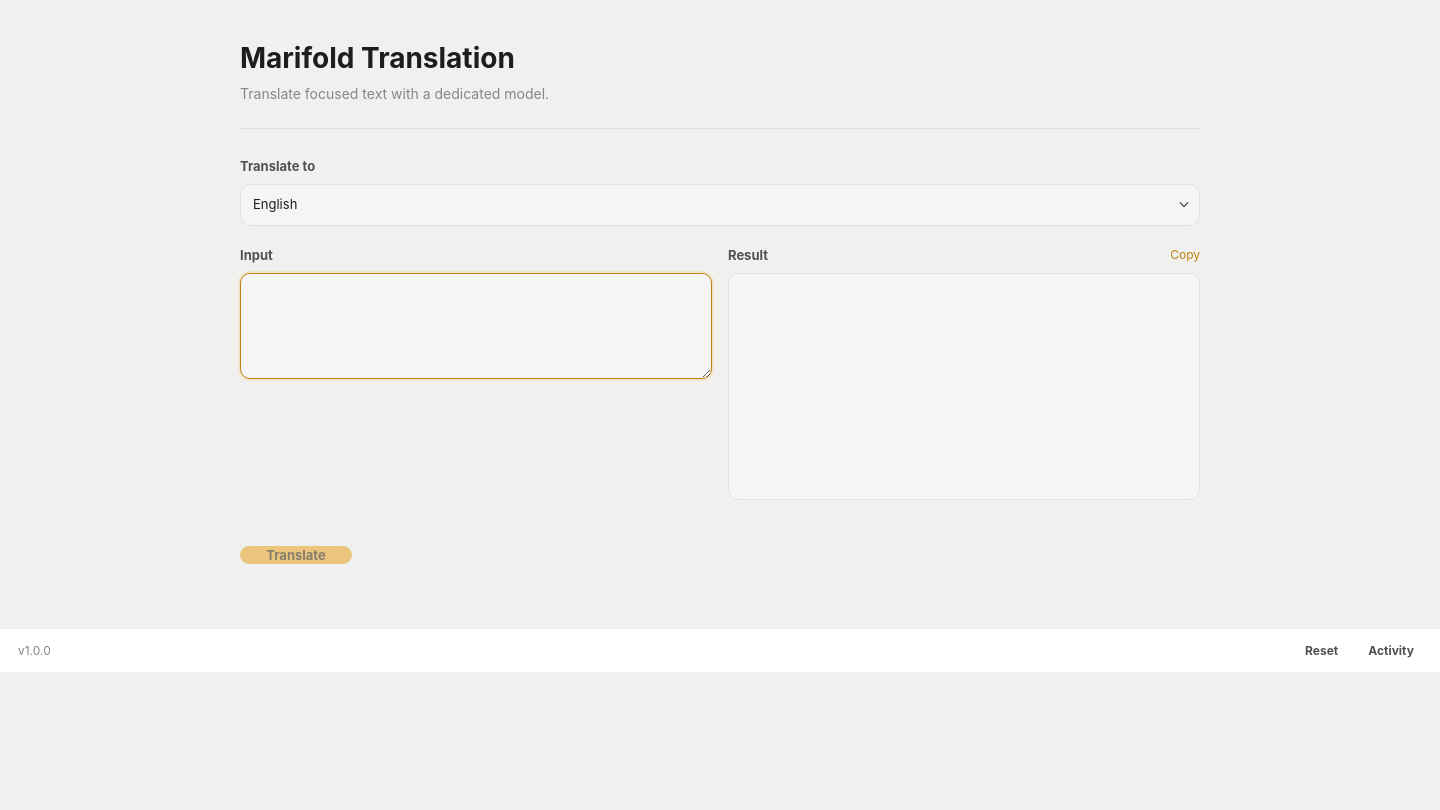
Test: AppsScreen › keeps fields and actions steady while an ordinary state update is pending
Expected: the button "Reset" is enabled, x1=1297 y1=638 x2=1346 y2=664
Type "a" into the text box labelled "Input" at (476, 326), box x1=240 y1=273 x2=712 y2=379
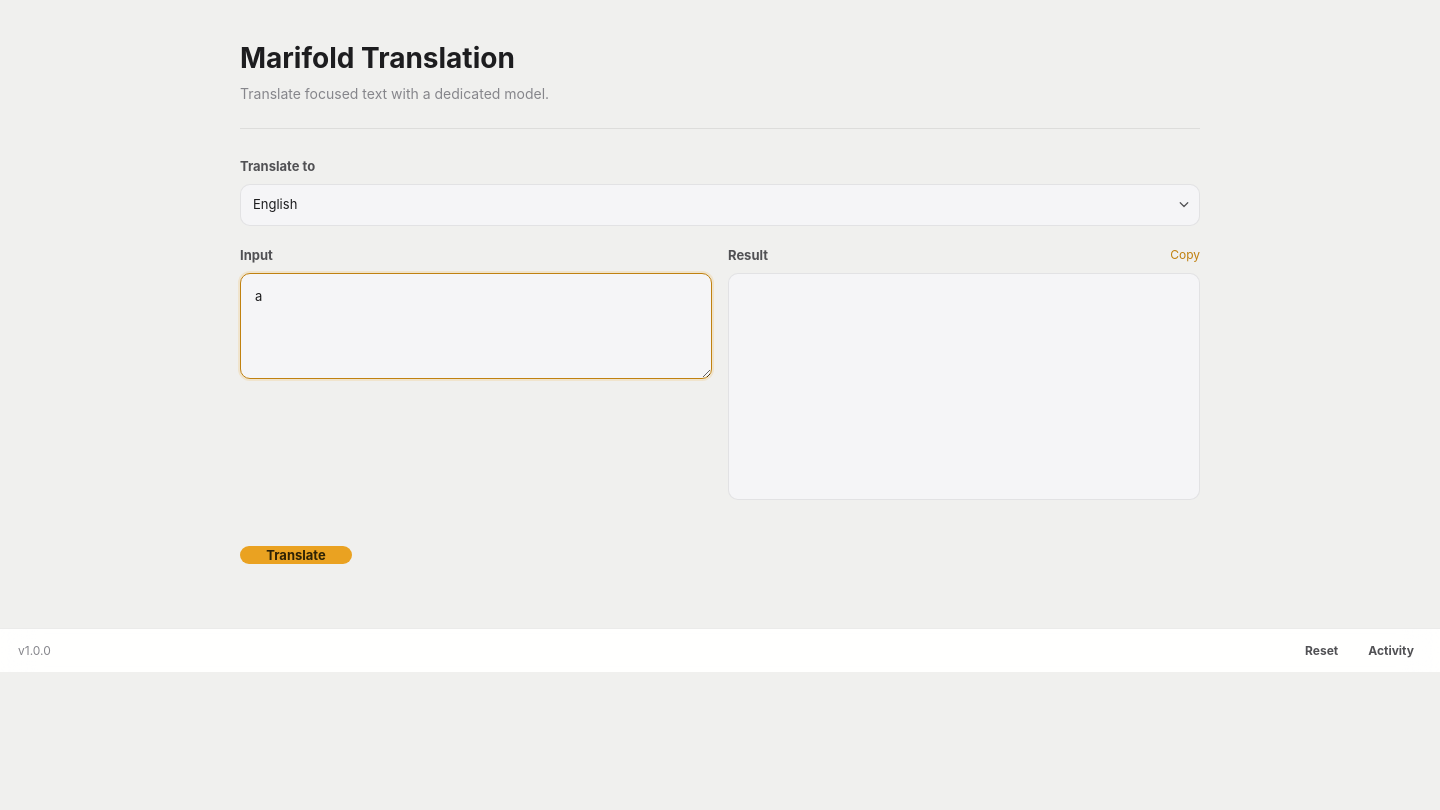
Expected: the button "Reset" is enabled, x1=1297 y1=638 x2=1346 y2=664
Expected: the button "Translate" is enabled, x1=240 y1=546 x2=352 y2=564
